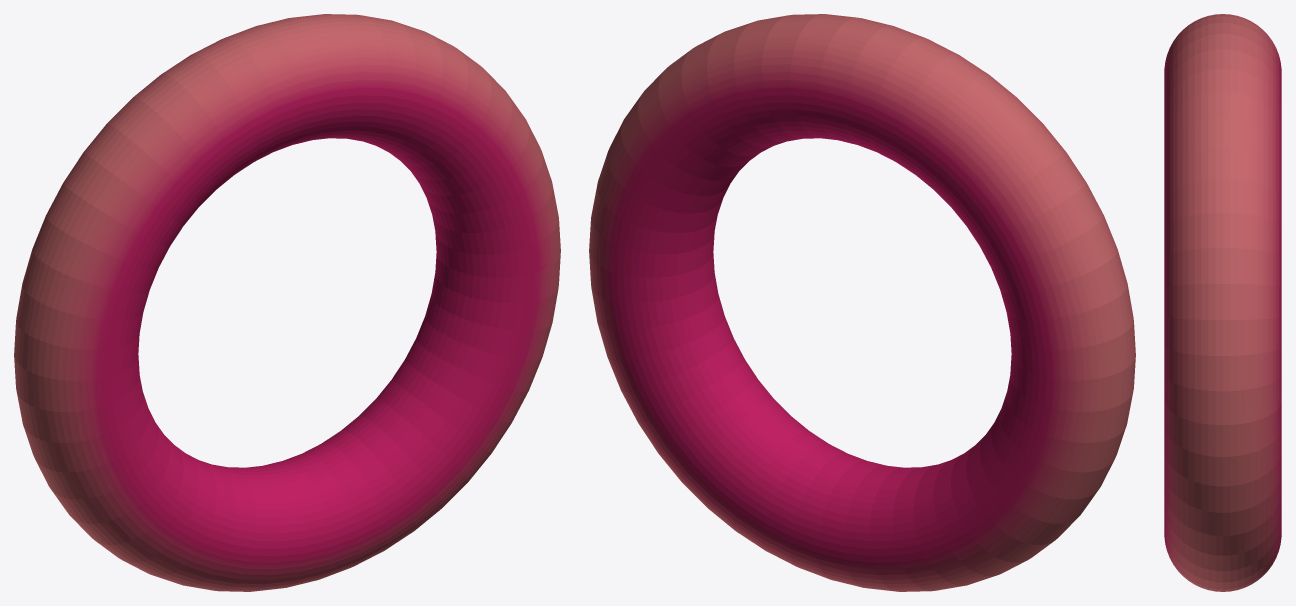
3 views of the same model, side by side, from view 1: azimuth 30°, elevation 25°; view 2: azimuth 150°, elevation 25°; view 3: azimuth 270°, elevation 25° (orthographic). The views are drawn at different scales.
Parts seen in each view (by area): view 1: world; view 2: world; view 3: world.
Boxes of the visible parts, x1,y1,x2,y2 form: world: (14, 14, 560, 591); world: (589, 14, 1135, 591); world: (1164, 14, 1281, 591).
Bounding box in the file's own units: 33.47 × 33.4 × 6.79.
